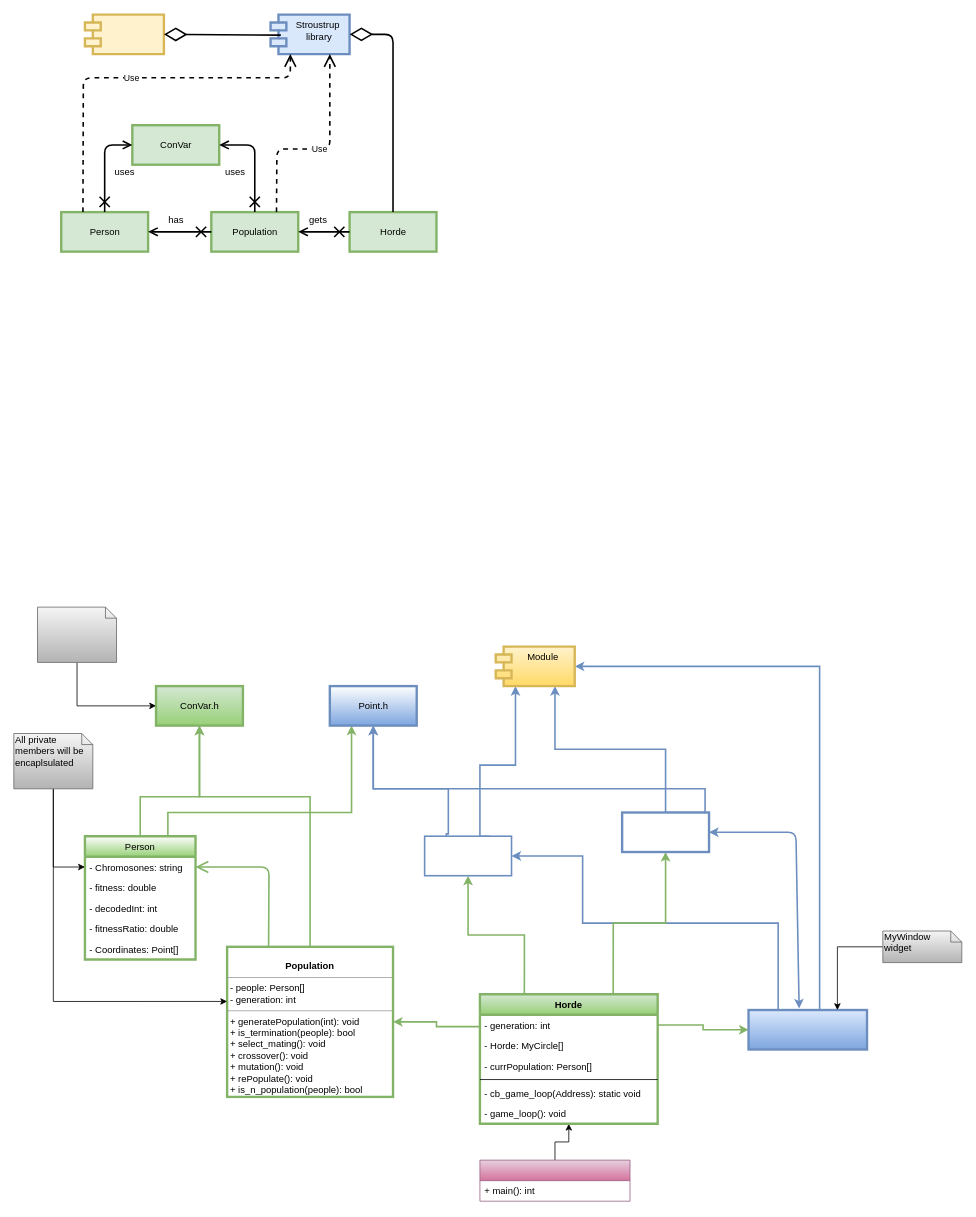
This 976x1217 diagram has some shape labels left out. The box of each missing label's shape, as (x1, y1, x2, y2) in pixels:
constant values for genetic algorithm: (37, 606, 117, 662)
FLTK library: (83, 13, 165, 55)
genetic_algorithm.cpp: (479, 1159, 630, 1201)
GUI.h: (747, 1008, 868, 1050)
MyTools: (423, 835, 512, 876)
MyWindow: (621, 811, 710, 853)
